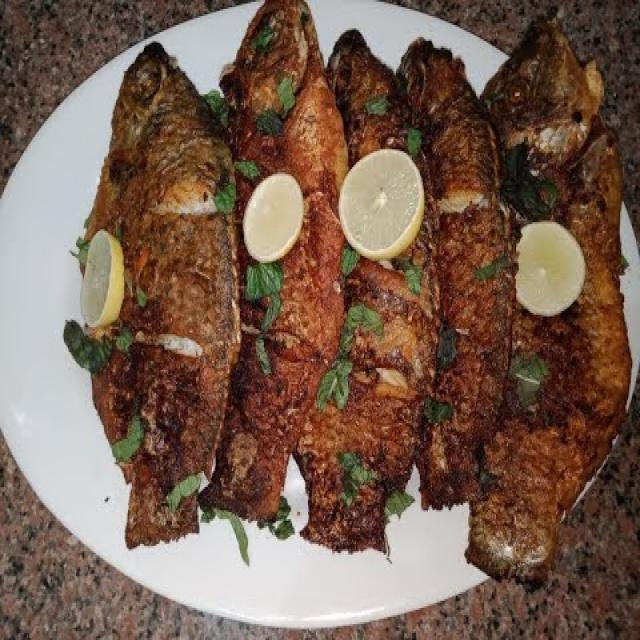Peixe: (64, 0, 633, 587), (463, 14, 632, 585), (65, 39, 243, 549), (395, 34, 516, 510)
